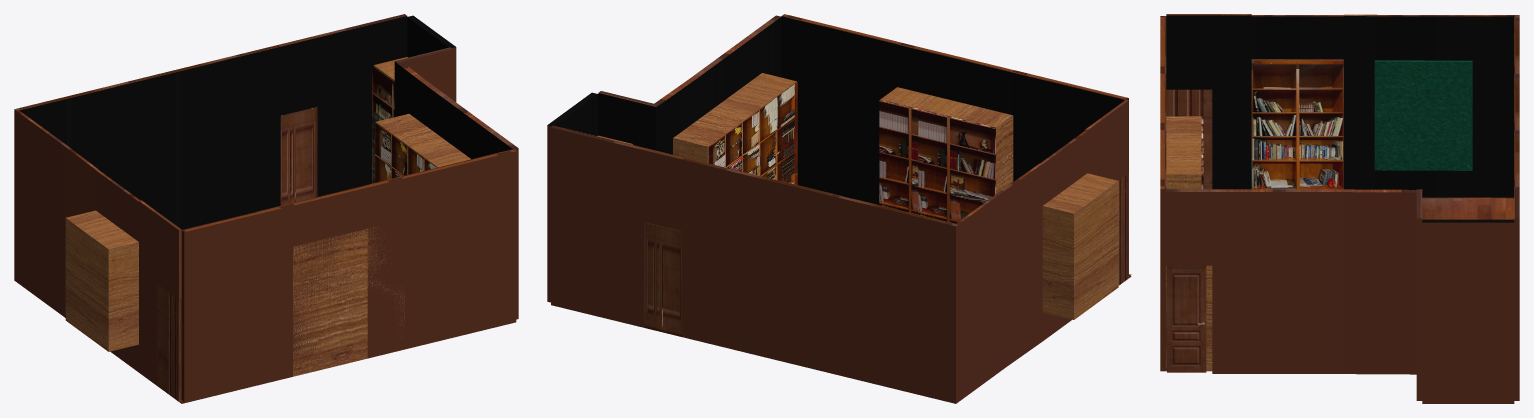
File: mmhoome.fbx
3 renders of one model, left to right at view 1: azimuth 30°, elevation 25°; view 2: azimuth 150°, elevation 25°; view 3: azimuth 270°, elevation 25°, orthographic. The views are drawn at different scales.
Parts seen in each view (by area): view 1: floor, Куб.012, Куб.013, Cube.006, Cube.005, Куб.010, s4, s2; view 2: floor, s3, Куб.013, s4, Cube.006, Куб.010, Куб.012, Cube.005; view 3: floor, s2o, Cube.007, Cube.002, Куб.012, floor.001, Cube.005, Куб.010.
Boxes of the visible parts, x1,y1,x2,y2 form: floor: [14, 14, 518, 403]; Куб.012: [293, 226, 404, 376]; Куб.013: [65, 210, 138, 351]; Cube.006: [280, 107, 316, 205]; Cube.005: [157, 284, 181, 401]; Куб.010: [375, 114, 470, 167]; s4: [375, 122, 436, 182]; s2: [372, 66, 394, 183]; floor: [547, 14, 1131, 403]; s3: [879, 99, 995, 223]; Куб.013: [1042, 173, 1118, 319]; s4: [708, 82, 797, 184]; Cube.006: [643, 222, 681, 336]; Куб.010: [673, 73, 796, 163]; Куб.012: [880, 87, 1013, 193]; Cube.005: [1118, 173, 1128, 285]; floor: [1160, 14, 1519, 403]; s2o: [1251, 60, 1343, 189]; Cube.007: [1374, 60, 1472, 170]; Cube.002: [1167, 265, 1206, 372]; Куб.012: [1166, 116, 1201, 311]; floor.001: [1166, 197, 1514, 369]; Cube.005: [1166, 89, 1212, 189]; Куб.010: [1206, 265, 1212, 371].
Size of the model in its own units: 882 by 339 by 602.
10 materials, 10 textured.
